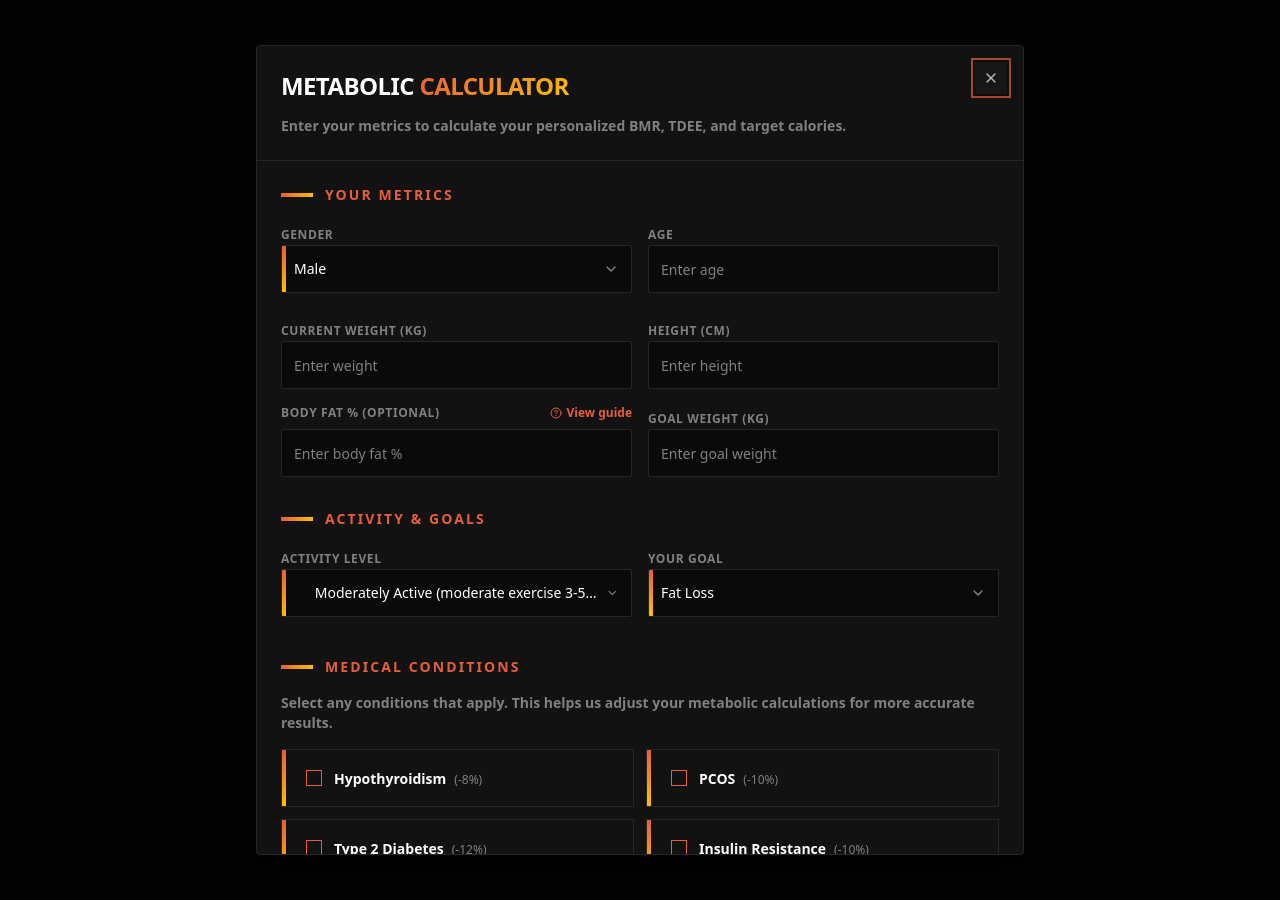
Scenario: CalculatorModal › handleConditionToggle › toggles a medical condition off when clicked twice
Click once to select
Click the button "Hypothyroidism(-8%)" at (458, 778), box x1=281 y1=749 x2=634 y2=807
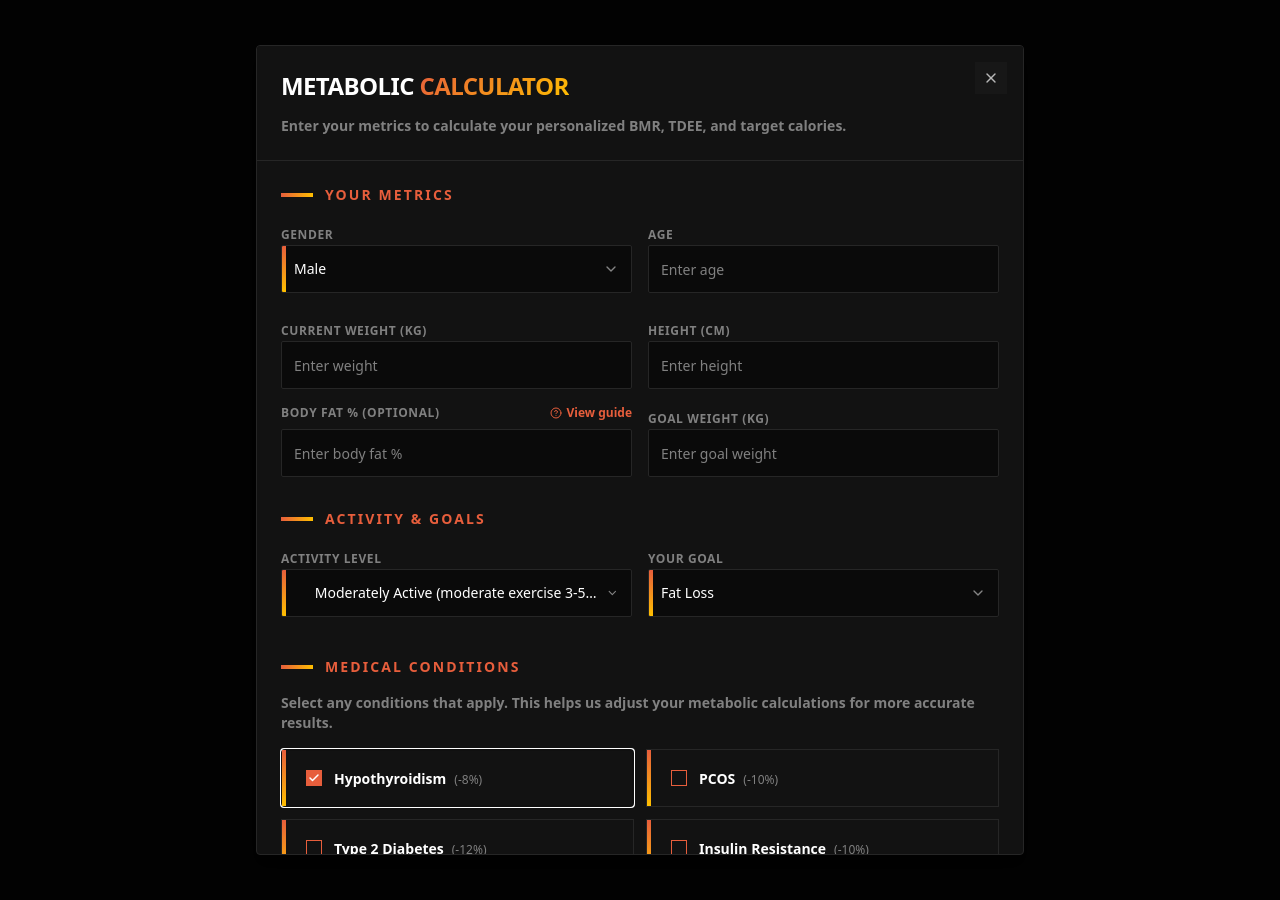
Click the button "Hypothyroidism(-8%)" at (458, 778), box x1=281 y1=749 x2=634 y2=807
(page scrolled)
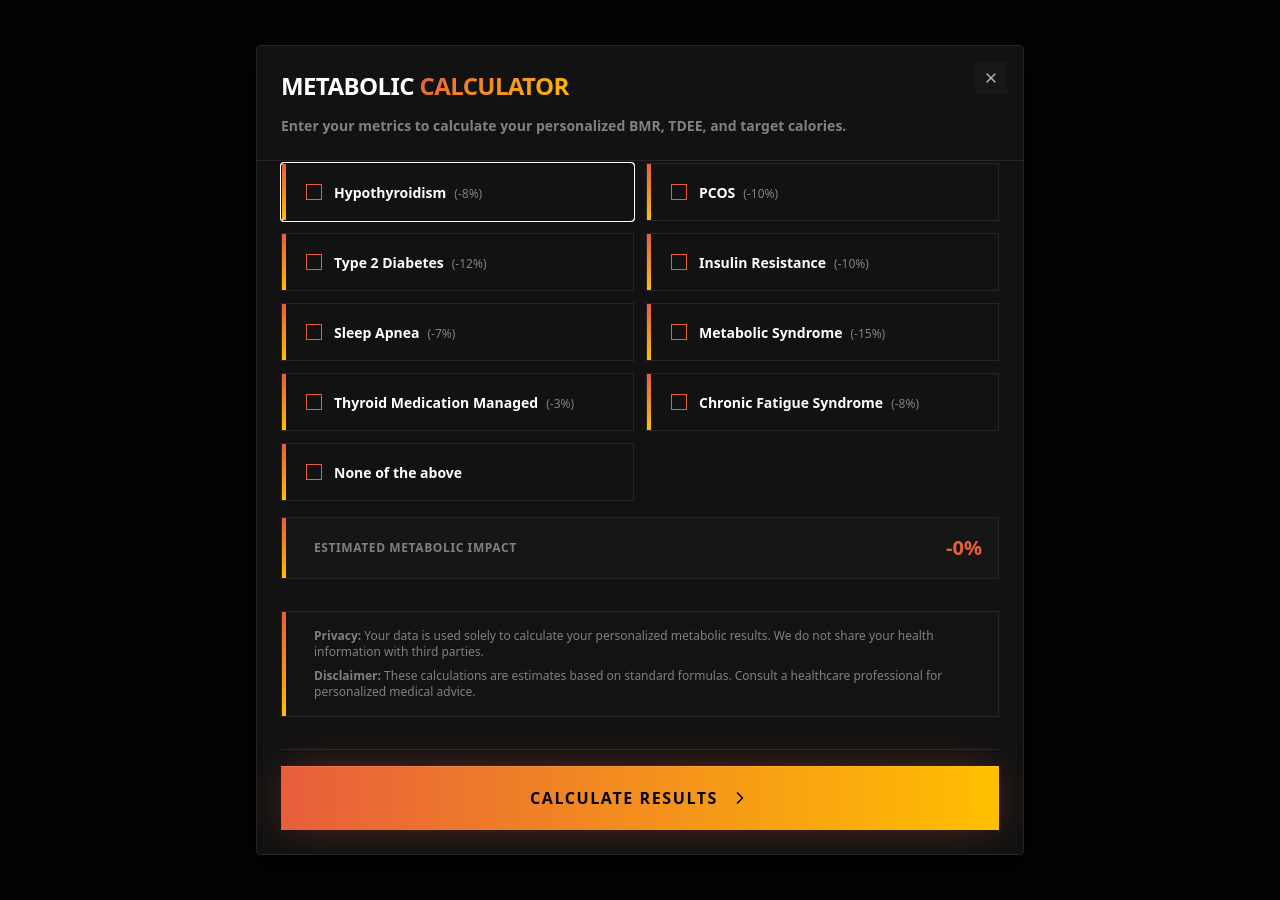
Check: the text "-0%" is shown, box x1=946 y1=534 x2=982 y2=562
